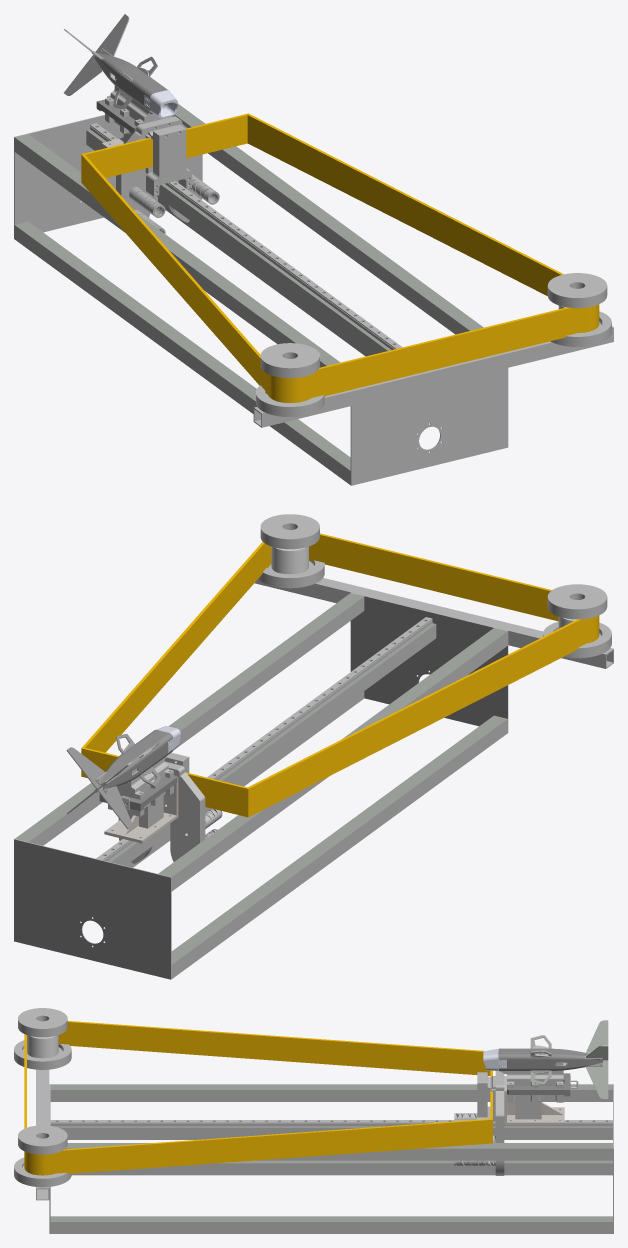
Rendered from practice_launcher.glb.
The picture shows the model from 3 angles, top to bottom: view 1: azimuth 30°, elevation 25°; view 2: azimuth 150°, elevation 25°; view 3: azimuth 270°, elevation 25°; orthographic projection. The views are drawn at different scales.
Visible parts, largest first — view 1: decathalon_band-1, plate_1-1, linear_rail_support-5, linear_rail_support-1, linear_rail_support-2, plate_1-2, flywheel_band_holder-1, linear_rail_support-3, passive_dart_TPU-1, linear_rail_rail-1, fontal_clamp-1, spring_damper_part-1 (+7 smaller); view 2: decathalon_band-1, plate_1-2, linear_rail_support-5, plate_1-1, linear_rail_support-1, linear_rail_support-2, linear_rail_support-3, passive_dart_TPU-1, flywheel_band_holder-1, linear_rail_rail-1, spring_damper_part-1, band_spacer_longer-1 (+8 smaller); view 3: decathalon_band-1, linear_rail_support-4, linear_rail_support-2, linear_rail_support-5, linear_rail_support-3, linear_rail_support-1, passive_dart_TPU-1, linear_rail_rail-1, band_spacer_longer-2, band_spacer_longer-1, flywheel_band_holder-1, steel_carrier-1 (+10 smaller).
Boxes of the visible parts, x1,y1,x2,y2 form: decathalon_band-1: (81, 113, 599, 402); plate_1-1: (350, 368, 508, 485); linear_rail_support-5: (14, 221, 350, 484); linear_rail_support-1: (172, 104, 483, 334); linear_rail_support-2: (14, 134, 340, 367); plate_1-2: (14, 114, 157, 238); flywheel_band_holder-1: (253, 326, 613, 427); linear_rail_support-3: (86, 129, 391, 354); passive_dart_TPU-1: (64, 14, 167, 114); linear_rail_rail-1: (90, 123, 402, 349); fontal_clamp-1: (146, 124, 191, 196); spring_damper_part-1: (116, 116, 202, 222); decathalon_band-1: (81, 533, 599, 817); plate_1-2: (14, 839, 171, 979); linear_rail_support-5: (171, 715, 507, 978); plate_1-1: (350, 592, 508, 732); linear_rail_support-1: (15, 593, 364, 845); linear_rail_support-2: (158, 628, 507, 891); linear_rail_support-3: (107, 623, 436, 865); passive_dart_TPU-1: (66, 730, 172, 829); flywheel_band_holder-1: (254, 578, 613, 668); linear_rail_rail-1: (96, 617, 432, 861); spring_damper_part-1: (118, 762, 205, 863); band_spacer_longer-1: (547, 584, 607, 619); decathalon_band-1: (24, 1021, 492, 1175); linear_rail_support-4: (50, 1216, 612, 1233); linear_rail_support-2: (50, 1084, 612, 1101); linear_rail_support-5: (71, 1160, 612, 1175); linear_rail_support-3: (54, 1126, 612, 1139); linear_rail_support-1: (65, 1143, 612, 1160); passive_dart_TPU-1: (498, 1020, 608, 1099); linear_rail_rail-1: (50, 1120, 612, 1126); band_spacer_longer-2: (18, 1125, 67, 1154); band_spacer_longer-1: (18, 1008, 67, 1037); flywheel_band_holder-1: (36, 1069, 49, 1200); steel_carrier-1: (504, 1076, 564, 1124).
Bounding box in the file's own units: 0.65 × 0.355 × 1.15.
